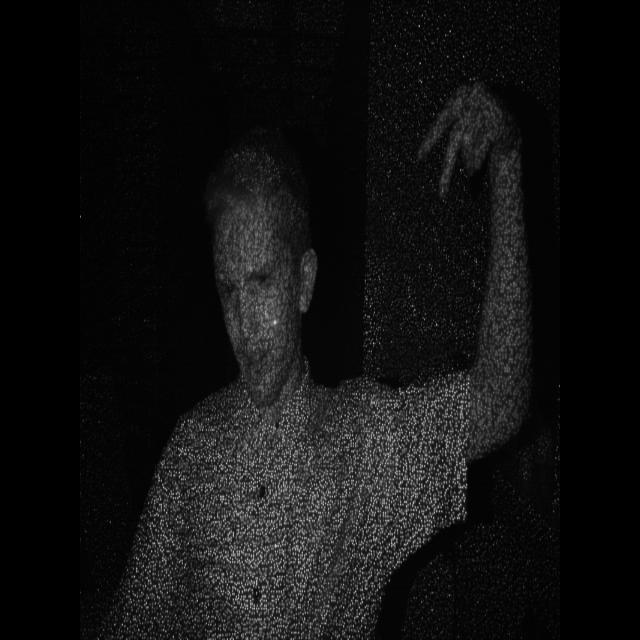P: (412, 67, 520, 209)
